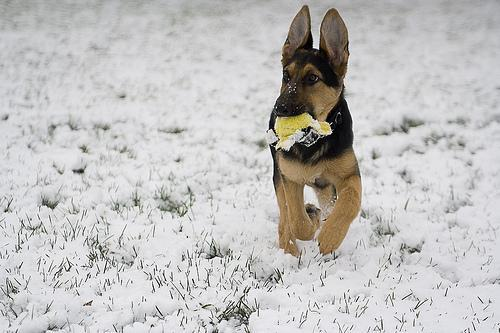German_shepherd: (266, 4, 364, 261)
